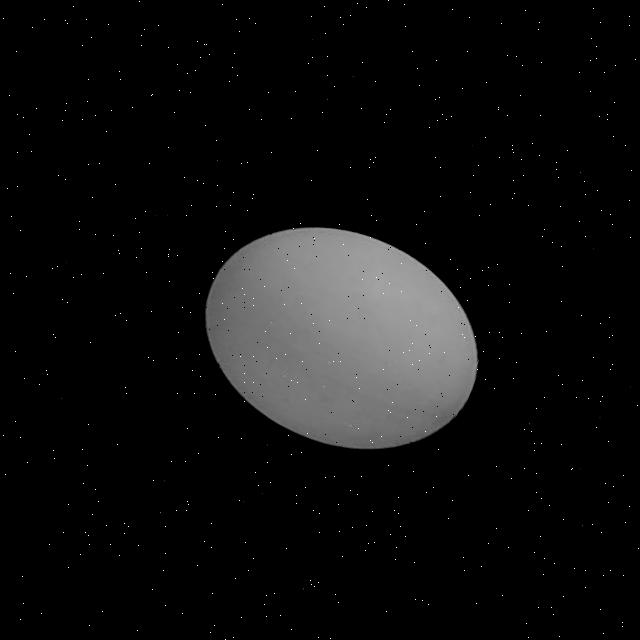ping-pong-ball: (173, 184, 510, 488)
